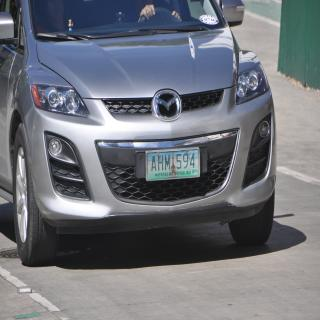license: (147, 148, 201, 182)
